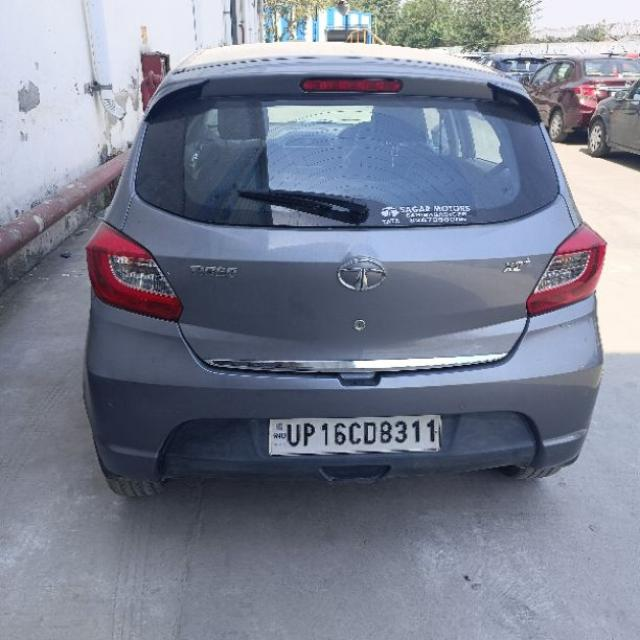license_plate: (267, 413, 442, 456)
